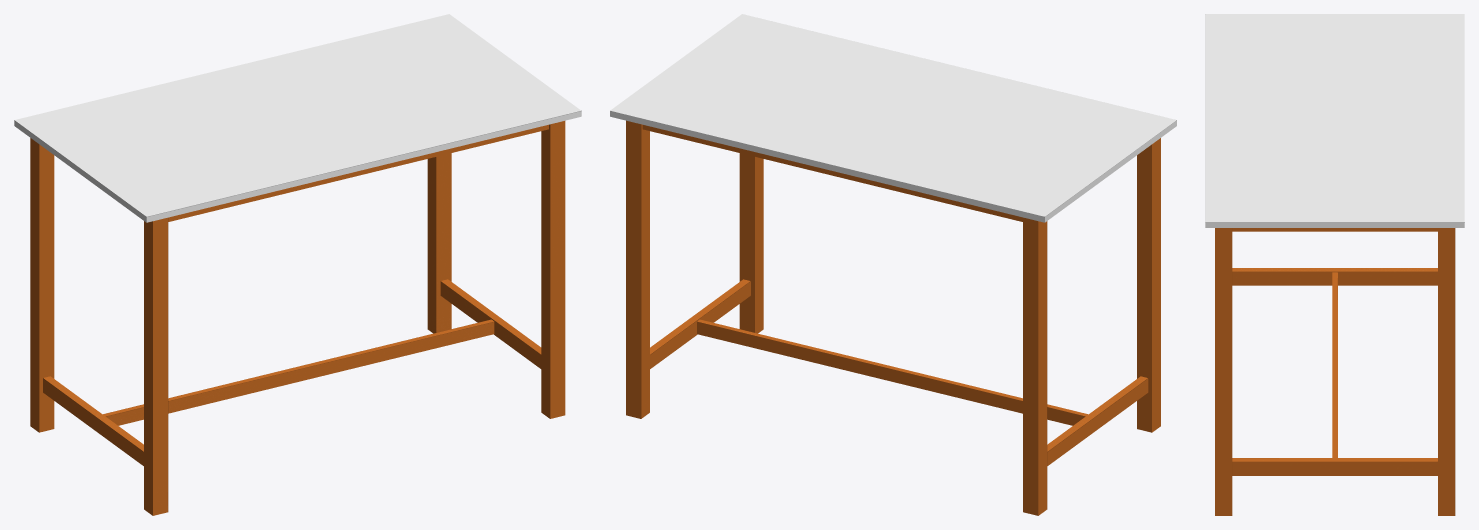
File: sDesk.fbx
3 views of the same model, side by side, from view 1: azimuth 30°, elevation 25°; view 2: azimuth 150°, elevation 25°; view 3: azimuth 270°, elevation 25° (orthographic). The views are drawn at different scales.
Parts seen in each view (by area): view 1: Table_lowpoly; view 2: Table_lowpoly; view 3: Table_lowpoly.
Boxes of the visible parts, left/top/right/bottom form: Table_lowpoly: left=14, top=14, right=581, bottom=515; Table_lowpoly: left=610, top=14, right=1176, bottom=515; Table_lowpoly: left=1205, top=14, right=1464, bottom=515.
Bounding box in the file's own units: 114 × 76.5 × 60.
Materials: 1 (1 with a texture image).
